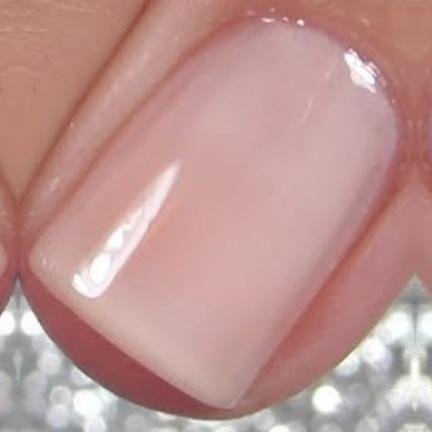Nail: (26, 13, 405, 410), (424, 96, 432, 168), (0, 243, 8, 276)
